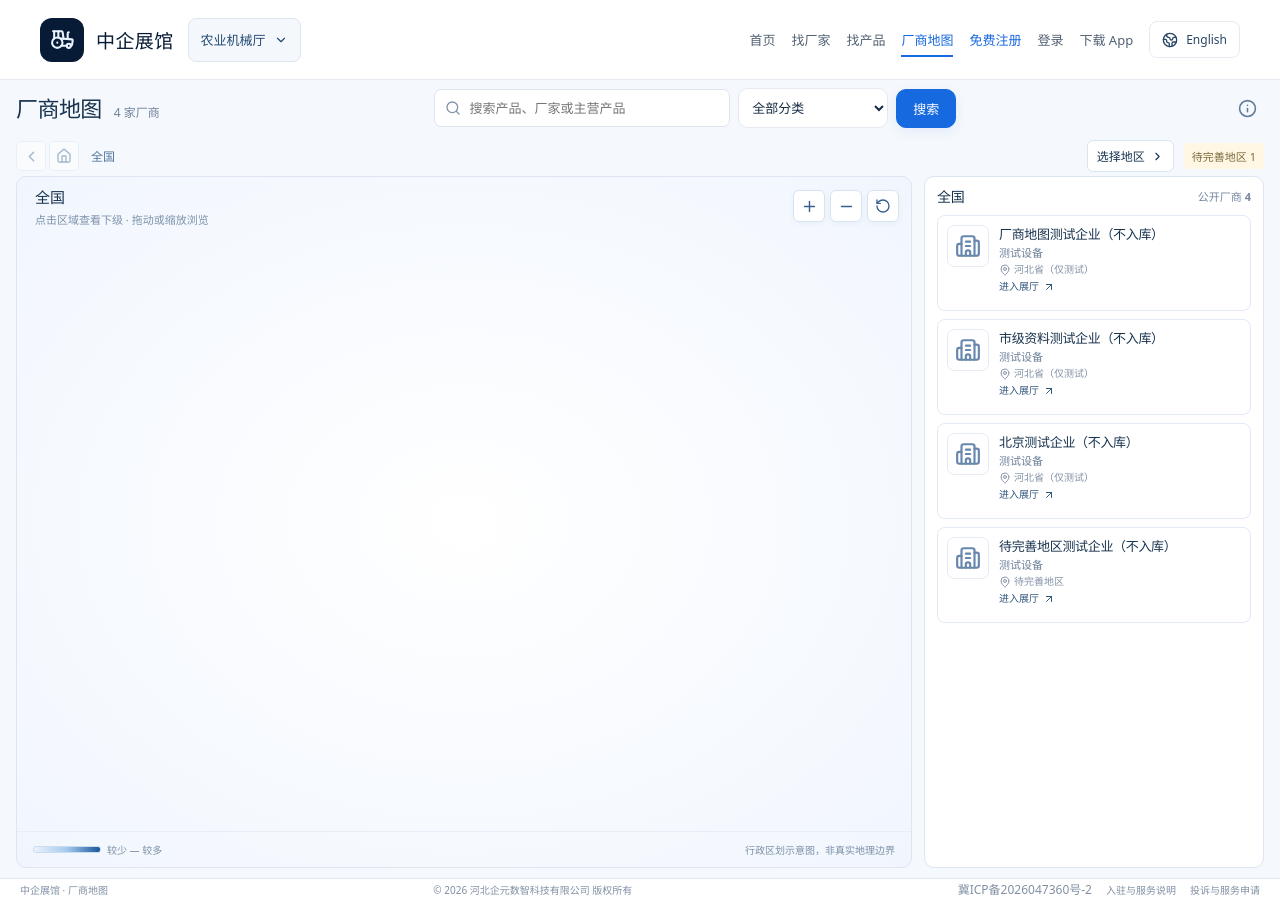
Scenario: keeps unresolved manufacturers separate from real region geometry
This screenshot has width=1280, height=900.
Click the button "待完善地区 1".
click(1224, 156)  # box 1184,143 -> 1264,169
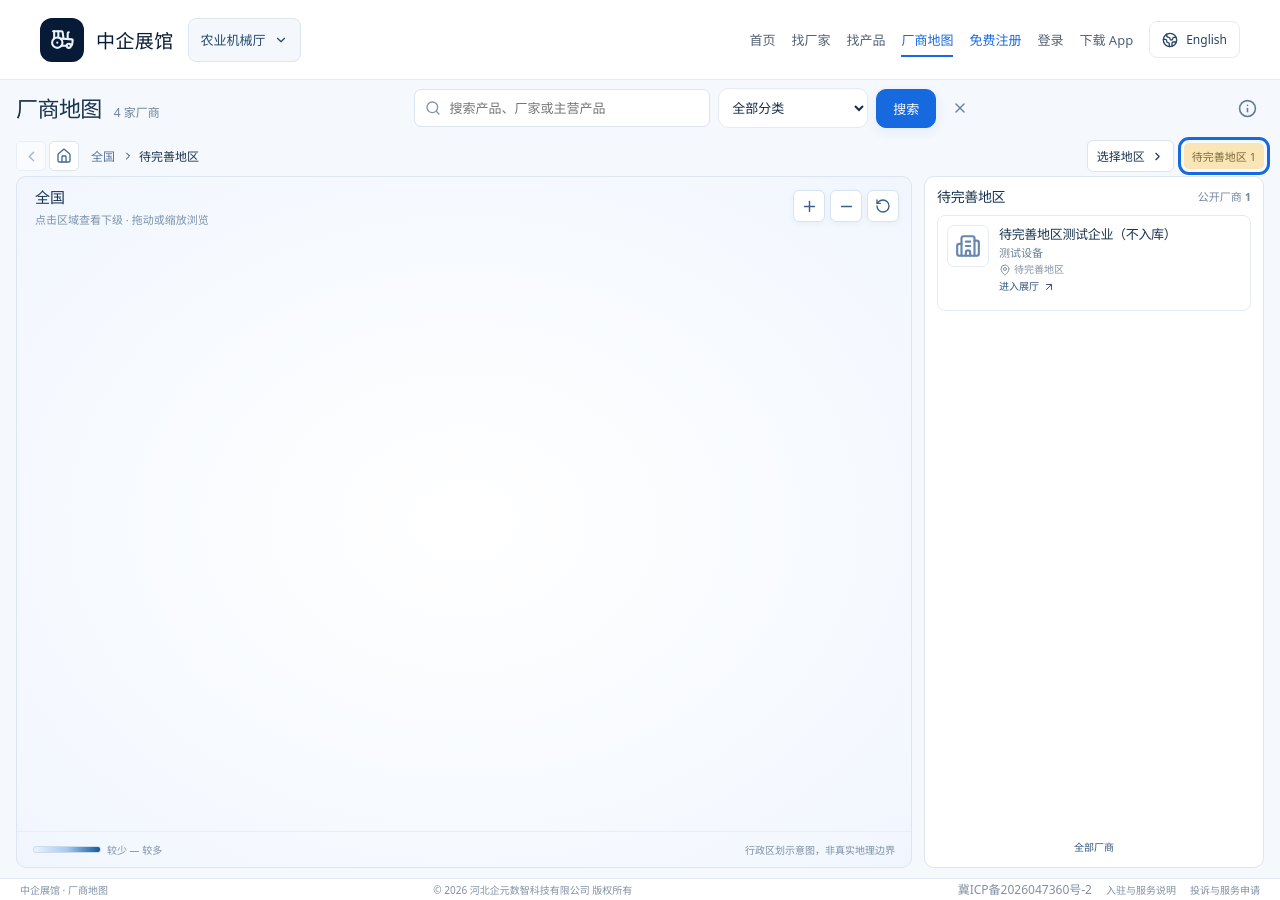
Expected: the heading "待完善地区测试企业（不入库）" is shown, 999,225 -> 1176,243
Now the link "厂商地图测试企业（不入库）" is gone
Click the button "全部厂商".
click(1094, 846)  # box 1074,838 -> 1114,854
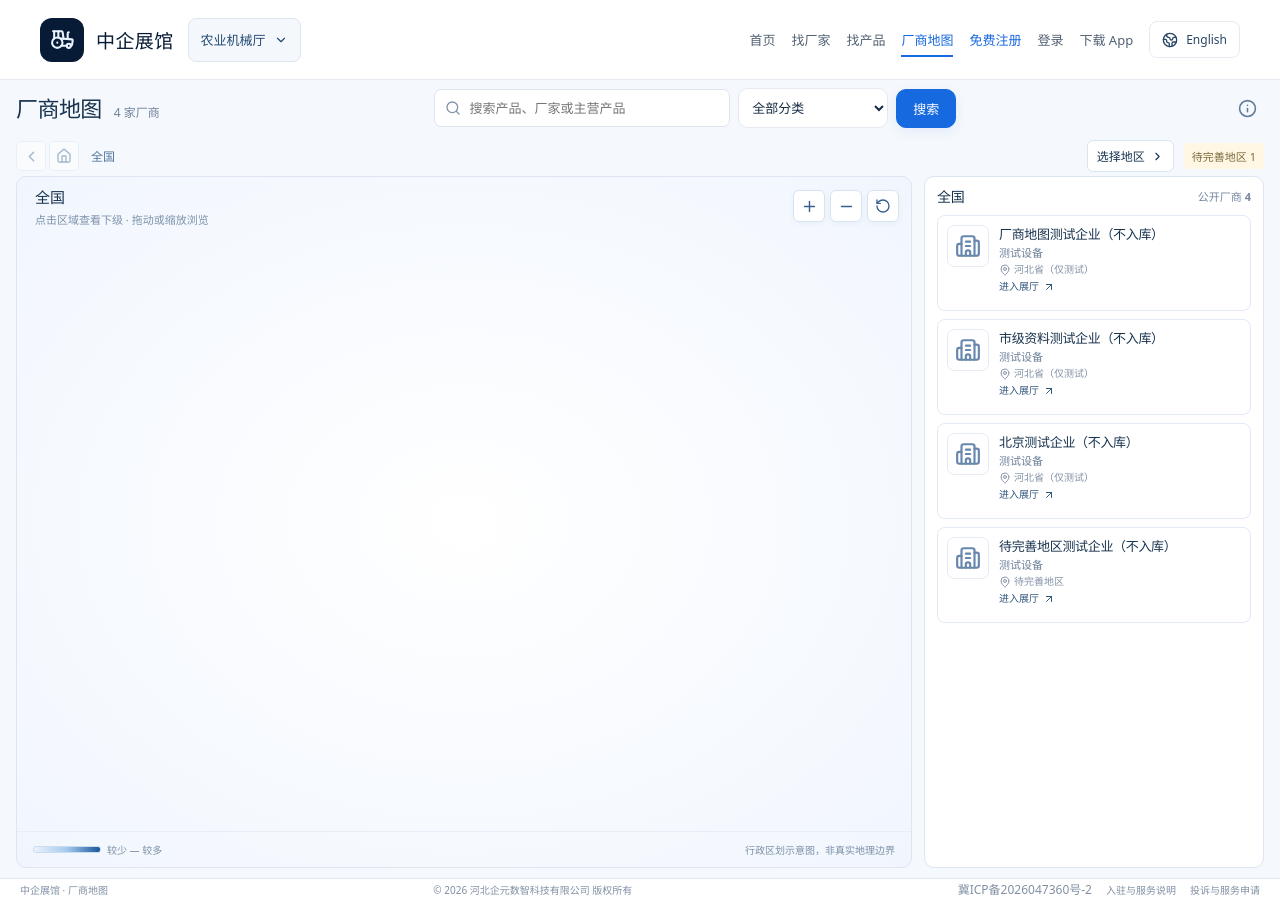
Now the heading "厂商地图测试企业（不入库）" is shown, box 999,225 -> 1164,243
